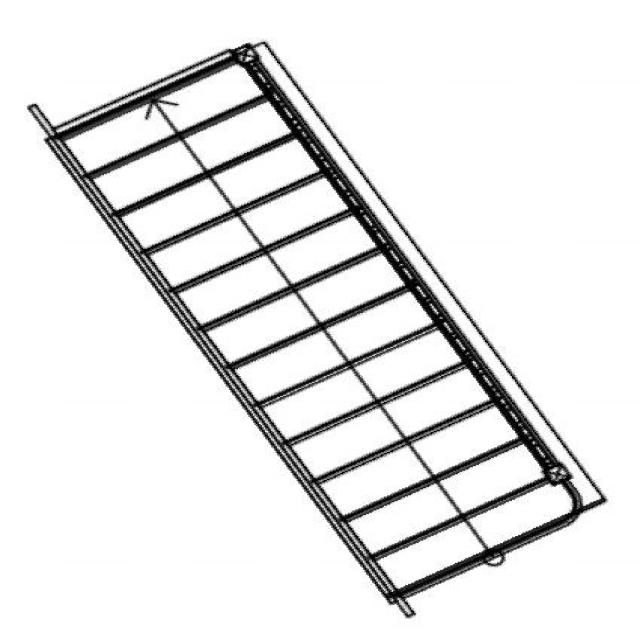stair: (28, 40, 610, 614)
